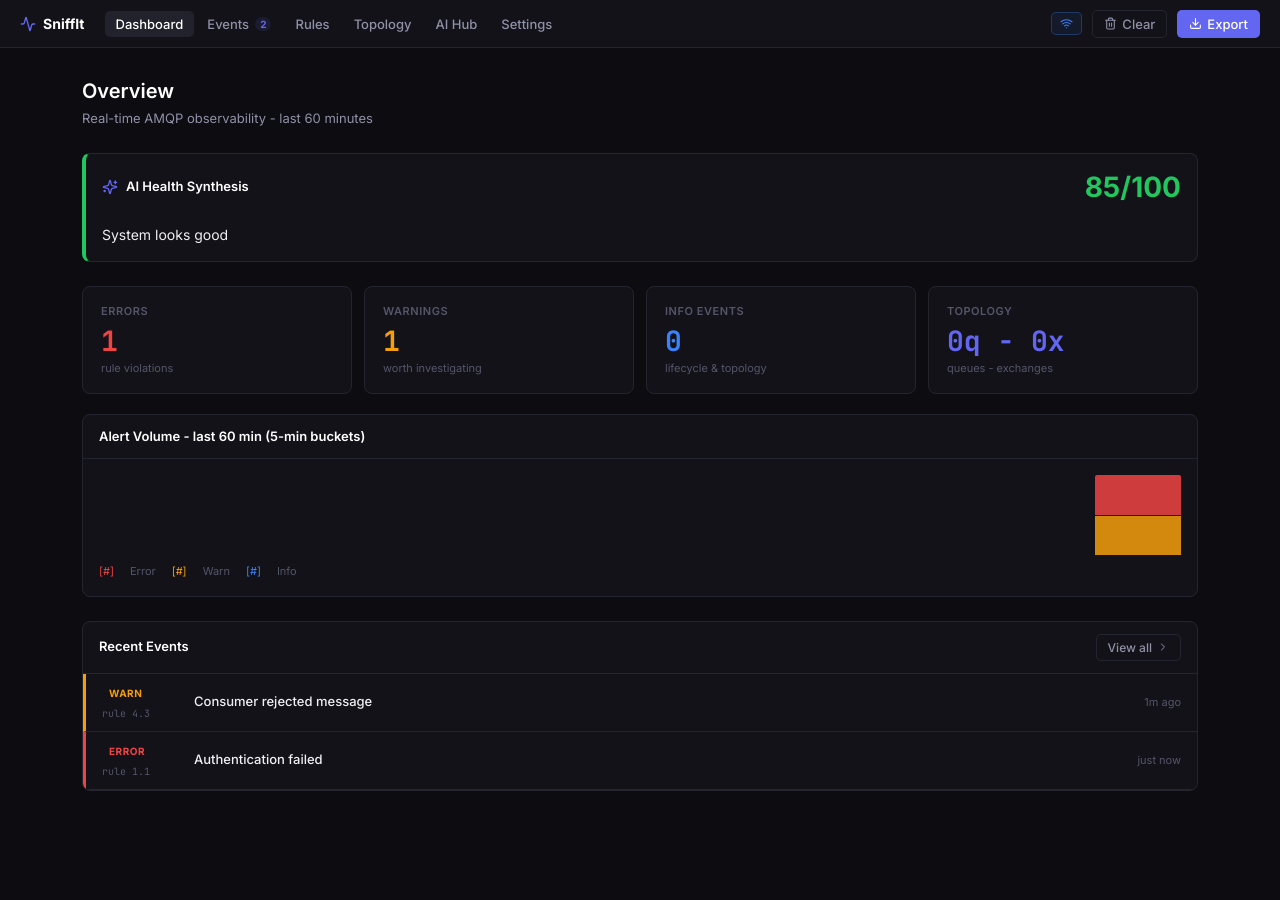
Test: SniffIt APP › interacts with alert details and AI diagnosis
Step 1. Click the text "Authentication failed" → [258, 758], box 194,750 -> 323,766
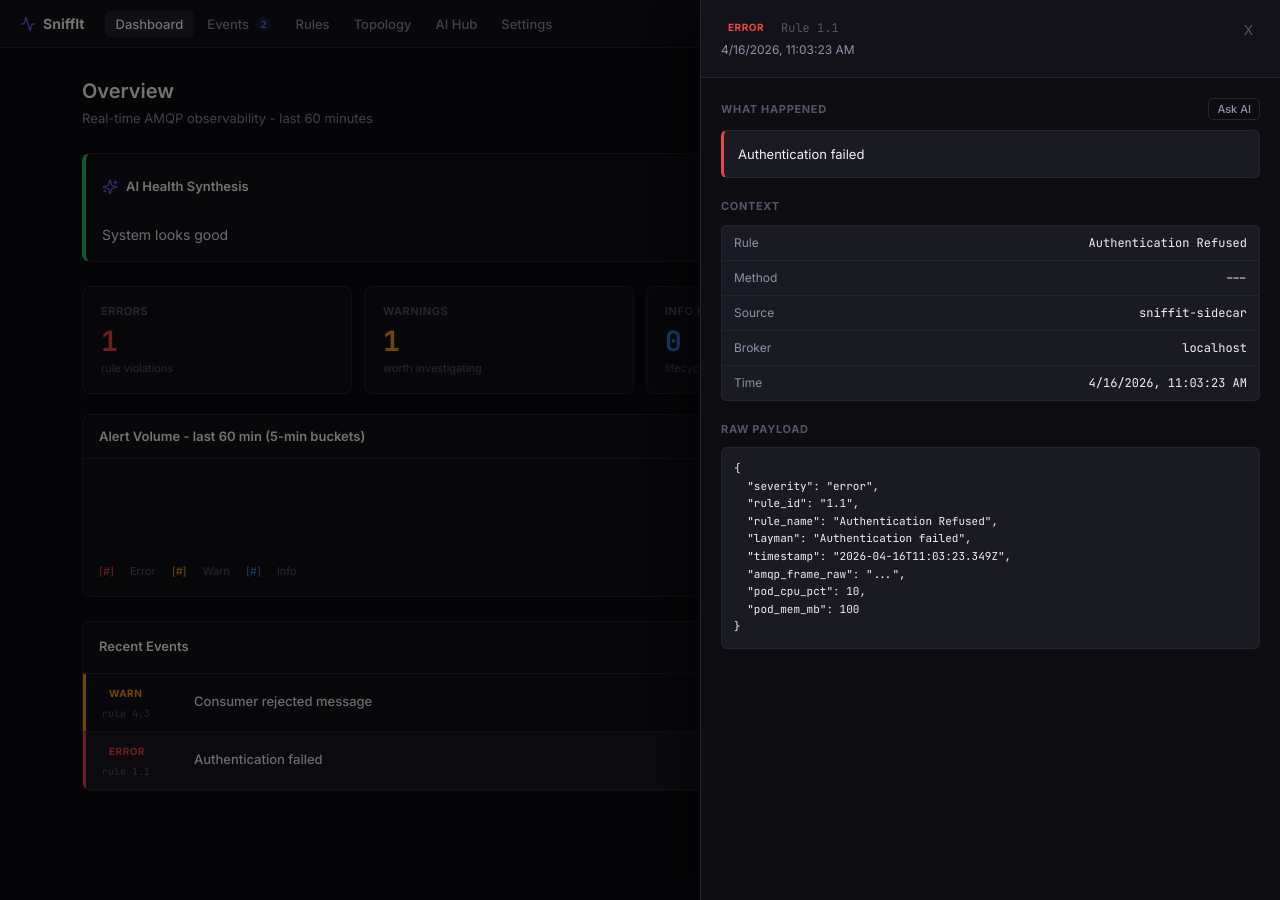
Expected: the text "What happened" is shown, 721,101 -> 827,117
Step 2. Click the button "Ask AI" → [1234, 109], box 1208,98 -> 1260,120
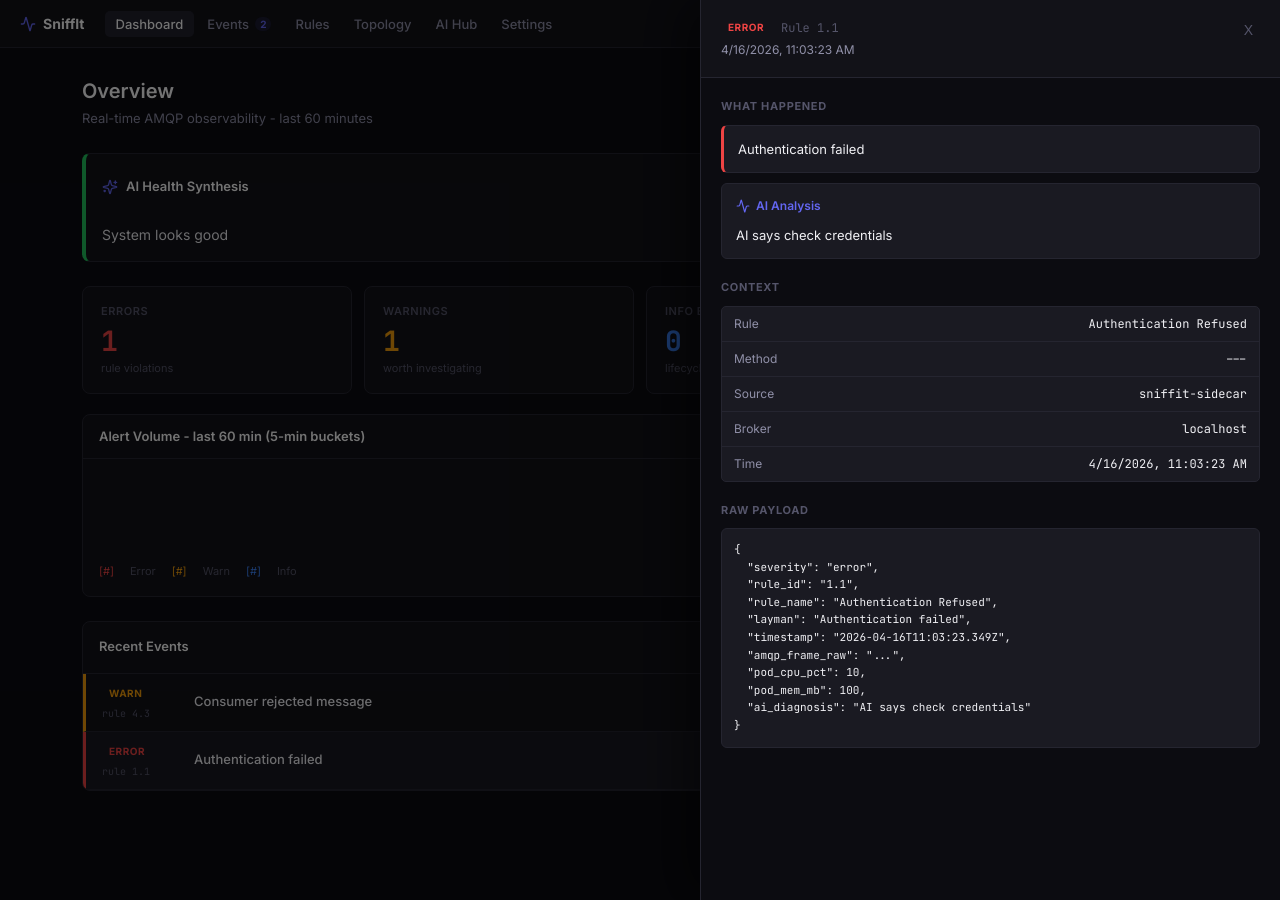
Expected: the text "AI Analysis" is shown, 736,198 -> 821,213
Expected: the text "AI says check credentials" is shown, 736,227 -> 892,243
